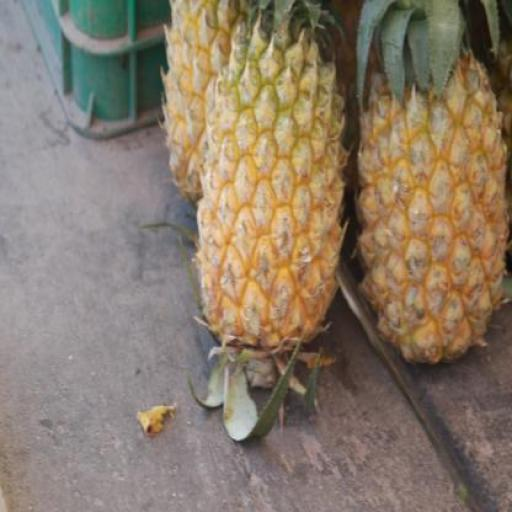Pineapple - v8 v1: (202, 30, 348, 353), (360, 44, 500, 358), (168, 0, 266, 203)
